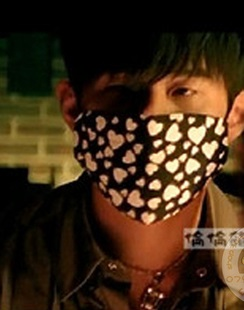face_mask: (85, 16, 226, 214)
